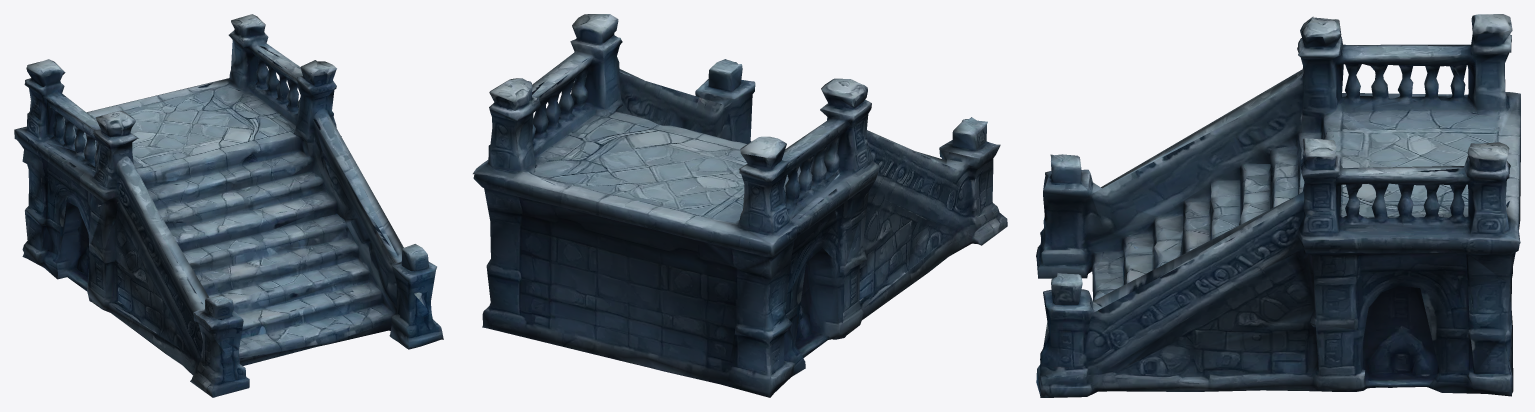
The model's file is hstairs.glb.
3 views of the same model, side by side, from view 1: azimuth 30°, elevation 25°; view 2: azimuth 150°, elevation 25°; view 3: azimuth 270°, elevation 25° (orthographic). The views are drawn at different scales.
Parts seen in each view (by area): view 1: tripo_node_320d2a95; view 2: tripo_node_320d2a95; view 3: tripo_node_320d2a95.
Boxes of the visible parts, bbox=[...] form: tripo_node_320d2a95: bbox=[14, 14, 443, 397]; tripo_node_320d2a95: bbox=[473, 14, 1007, 397]; tripo_node_320d2a95: bbox=[1036, 14, 1520, 397].
Bounding box in the file's own units: 71.93 × 56.31 × 99.94.
Materials: 1 (1 with a texture image).
